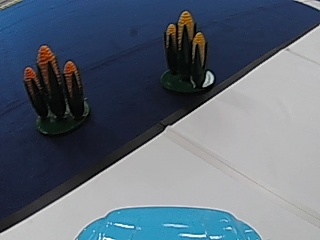corn: (21, 43, 91, 134), (160, 6, 214, 93)
